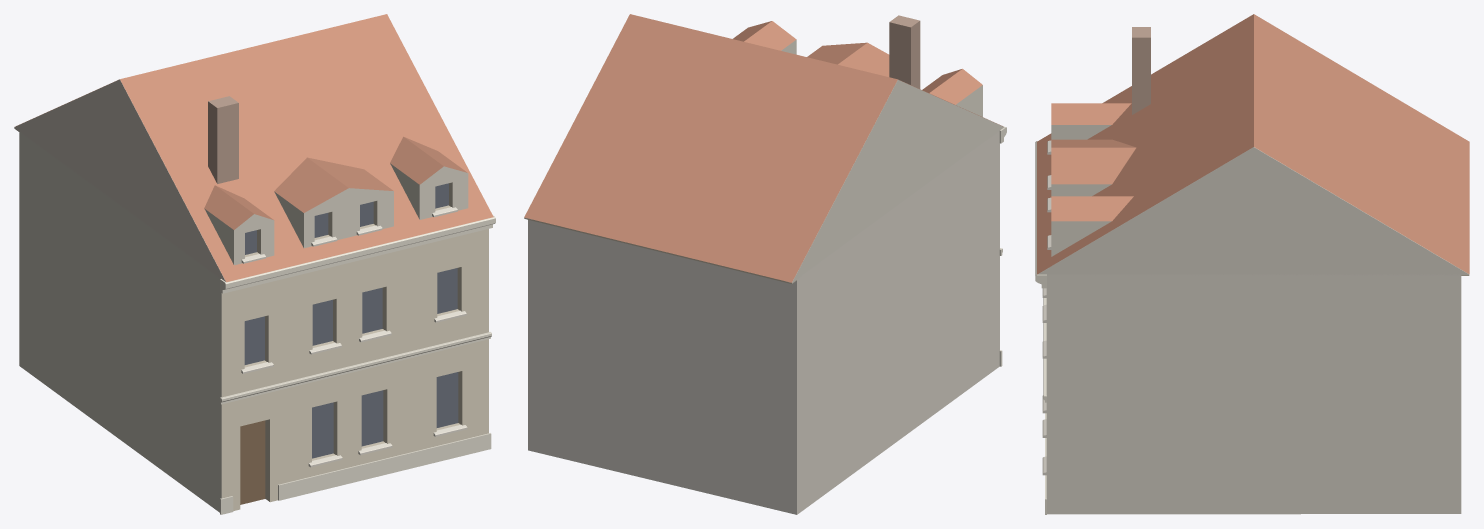
The picture shows the model from 3 angles, left to right: view 1: azimuth 30°, elevation 25°; view 2: azimuth 150°, elevation 25°; view 3: azimuth 270°, elevation 25°; orthographic projection.
Parts seen in each view (by area): view 1: CP_574_Masonry, CP_574_Roof, CP_574_Gable_L_gable, CP_574_Dormer_DM, CP_574_Dormer_DR, CP_574_Cornice_plinth_1, CP_574_Dormer_DL, CP_574_Cornice_main_0, CP_574_Chimney_0, CP_574_Cornice_string_0; view 2: CP_574_Masonry, CP_574_Roof, CP_574_Gable_L_gable, CP_574_Chimney_0, CP_574_Dormer_DM, CP_574_Dormer_DL, CP_574_Dormer_DR; view 3: CP_574_Masonry, CP_574_Roof, CP_574_Gable_R_gable, CP_574_Dormer_DM, CP_574_Dormer_DR, CP_574_Dormer_DL, CP_574_Chimney_0.
Boxes of the visible parts, x1,y1,x2,y2 form: CP_574_Masonry: [19, 131, 488, 512]; CP_574_Roof: [15, 14, 493, 282]; CP_574_Gable_L_gable: [14, 79, 225, 281]; CP_574_Dormer_DM: [274, 157, 393, 248]; CP_574_Dormer_DR: [390, 136, 468, 219]; CP_574_Cornice_plinth_1: [278, 433, 491, 500]; CP_574_Dormer_DL: [204, 185, 274, 265]; CP_574_Cornice_main_0: [220, 215, 495, 293]; CP_574_Chimney_0: [208, 96, 238, 183]; CP_574_Cornice_string_0: [220, 332, 491, 404]; CP_574_Masonry: [528, 131, 999, 514]; CP_574_Roof: [524, 14, 1003, 282]; CP_574_Gable_L_gable: [784, 80, 1004, 283]; CP_574_Chimney_0: [889, 15, 920, 88]; CP_574_Dormer_DM: [807, 42, 889, 76]; CP_574_Dormer_DL: [922, 68, 982, 116]; CP_574_Dormer_DR: [733, 21, 796, 54]; CP_574_Masonry: [1046, 274, 1461, 514]; CP_574_Roof: [1037, 14, 1469, 274]; CP_574_Gable_R_gable: [1038, 147, 1469, 275]; CP_574_Dormer_DM: [1051, 139, 1136, 196]; CP_574_Dormer_DR: [1051, 196, 1133, 256]; CP_574_Dormer_DL: [1051, 103, 1131, 139]; CP_574_Chimney_0: [1132, 27, 1150, 114].
Size of the model in its own units: 10.04 by 13 by 13.71.
